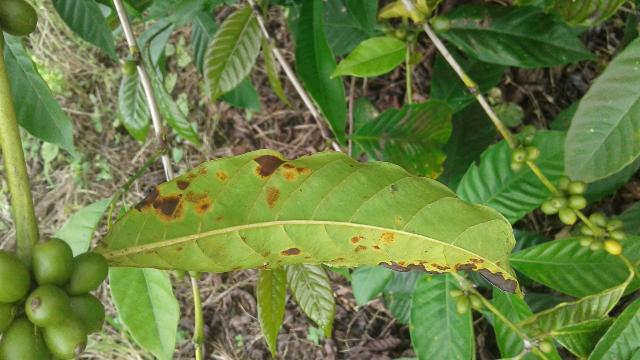rust_level_3: (93, 147, 521, 295)
